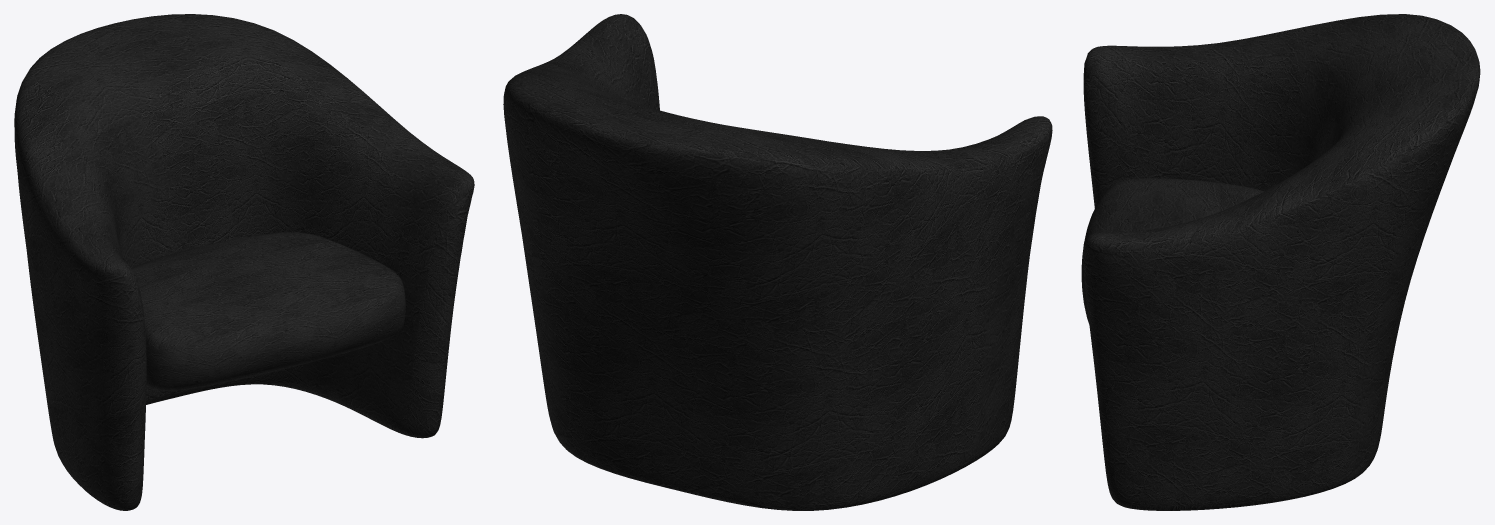
File: sofa_sessel.glb
3 views of the same model, side by side, from view 1: azimuth 30°, elevation 25°; view 2: azimuth 150°, elevation 25°; view 3: azimuth 270°, elevation 25° (orthographic). The views are drawn at different scales.
Parts seen in each view (by area): view 1: Object_2; view 2: Object_2; view 3: Object_2.
Part boxes in pixels (x1,y1,x2,y2): Object_2: [14, 14, 474, 510]; Object_2: [503, 14, 1052, 510]; Object_2: [1081, 14, 1480, 510].
Size of the model in its own units: 142 by 120 by 120.
Materials: 1 (1 with a texture image).
